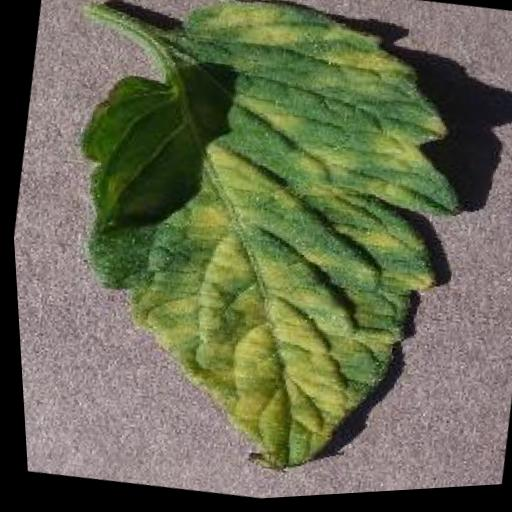Leaf Mold: (20, 0, 501, 511)
